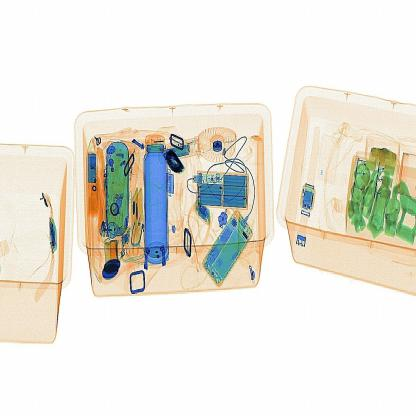scissors: (160, 145, 193, 186)
